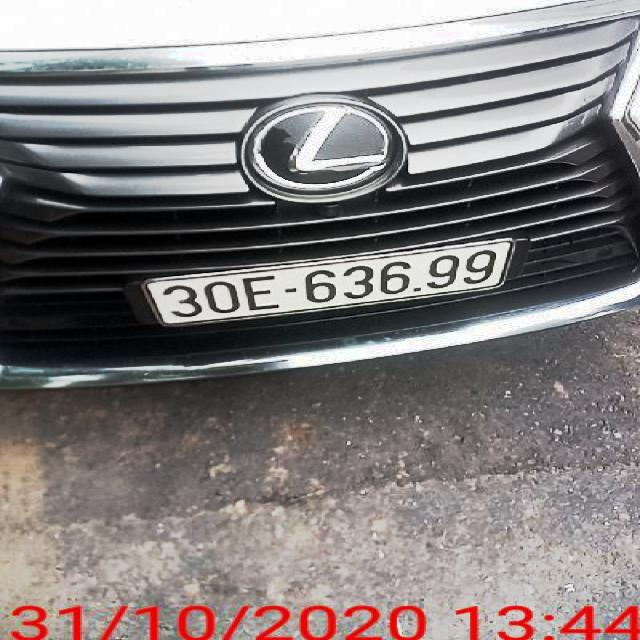license_plate: (143, 242, 514, 325)
